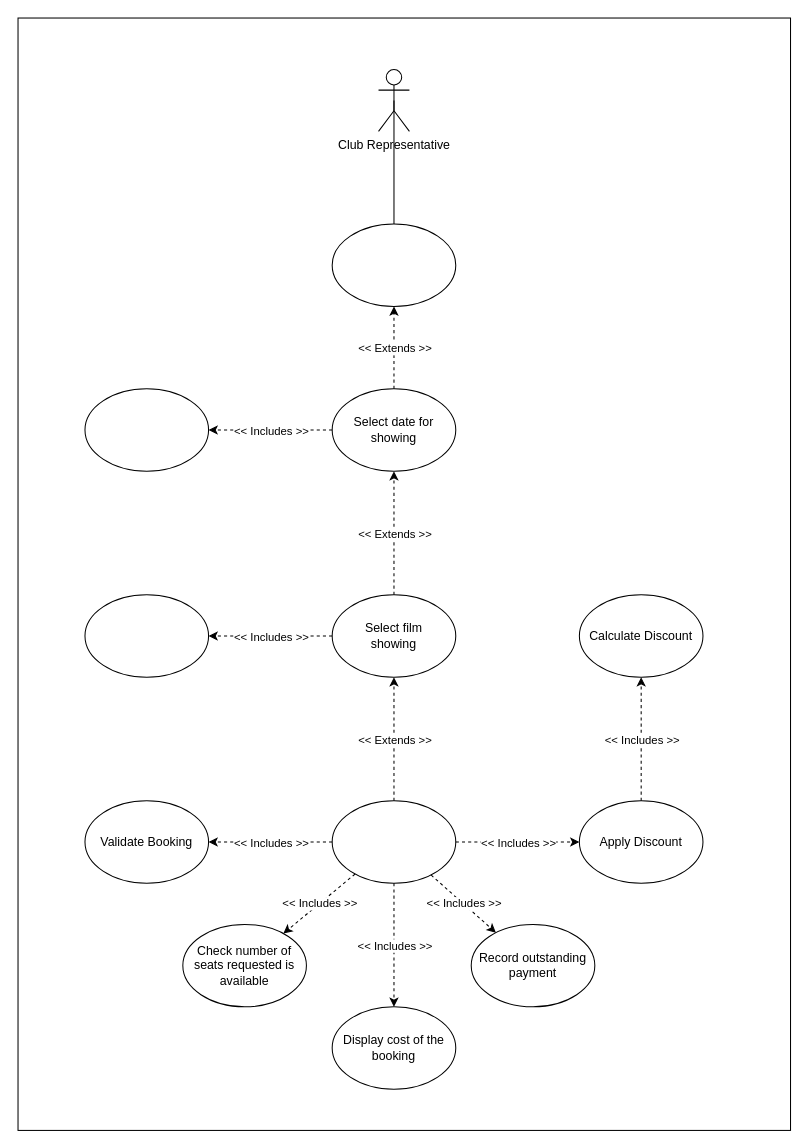
Some shapes in this 809 by 1148 pixel diagram are drawn without their labels. The shapes that lost their labels are listed below. From the top down, each one's centre as x and y in pixels, then its label:
At [393,264]: "Perform new booking".
At [146,429]: "Update showings for selected timeslot".
At [146,635]: "Update details for selected film.".
At [393,841]: "Approve purchase of block tickets for club".
